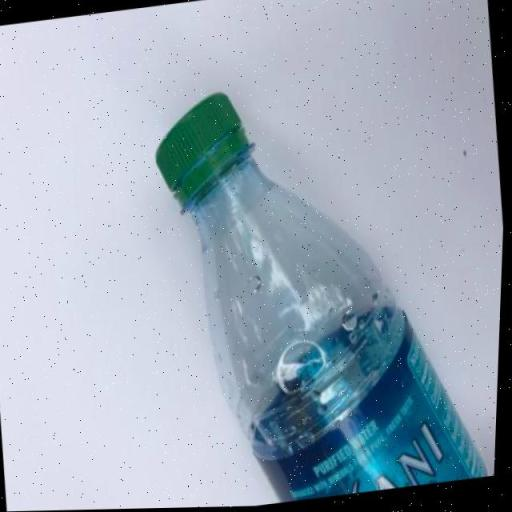plastic: (137, 58, 504, 510)
